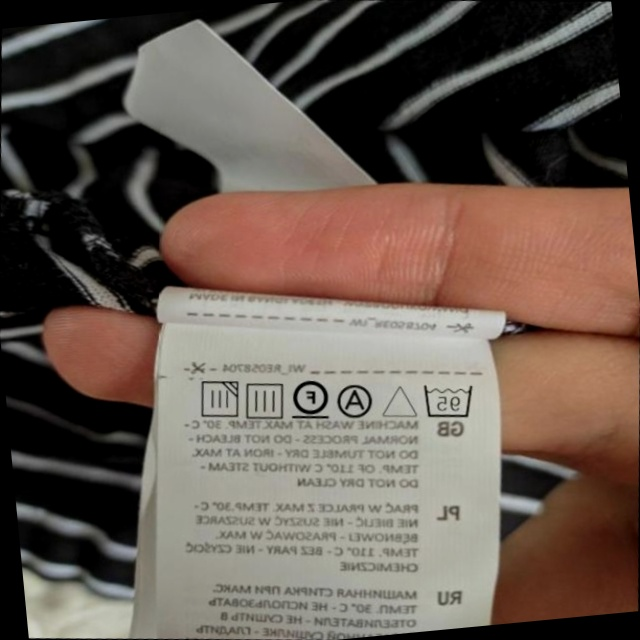95C: (417, 376, 478, 424)
bleach: (380, 377, 420, 424)
drip_dry: (240, 376, 289, 424)
drip_dry_in_shade: (191, 374, 243, 425)
dry_clean: (334, 380, 378, 422)
dry_clean_petrol_only: (287, 372, 333, 424)
